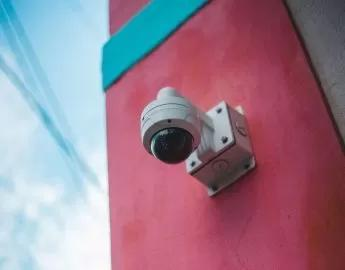360-Cam: (132, 96, 205, 168)
